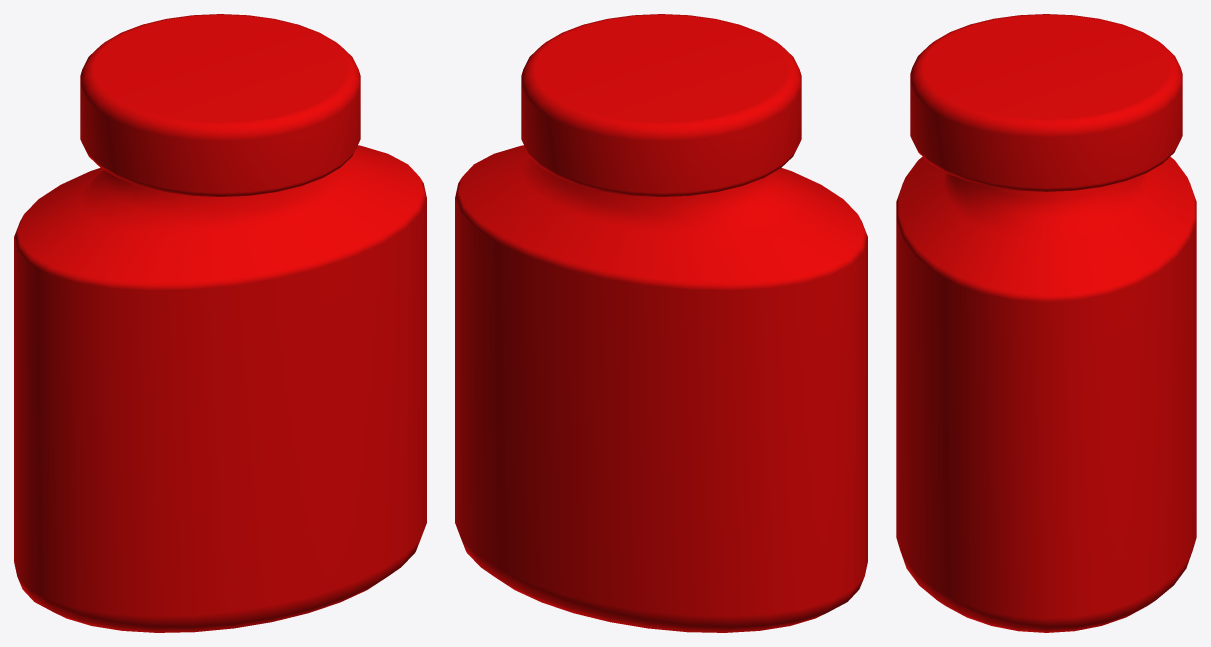
Rendered from Package_4.fbx.
3 views of the same model, side by side, from view 1: azimuth 30°, elevation 25°; view 2: azimuth 150°, elevation 25°; view 3: azimuth 270°, elevation 25° (orthographic). The views are drawn at different scales.
Visible parts, largest first — view 1: L6:polySurface7; view 2: L6:polySurface7; view 3: L6:polySurface7.
Boxes of the visible parts, box(x1,y1,x2,y2) form: L6:polySurface7: box(14, 14, 426, 632); L6:polySurface7: box(455, 14, 867, 632); L6:polySurface7: box(896, 14, 1196, 632).
Size of the model in its own units: 16.52 by 20.71 by 11.56.
